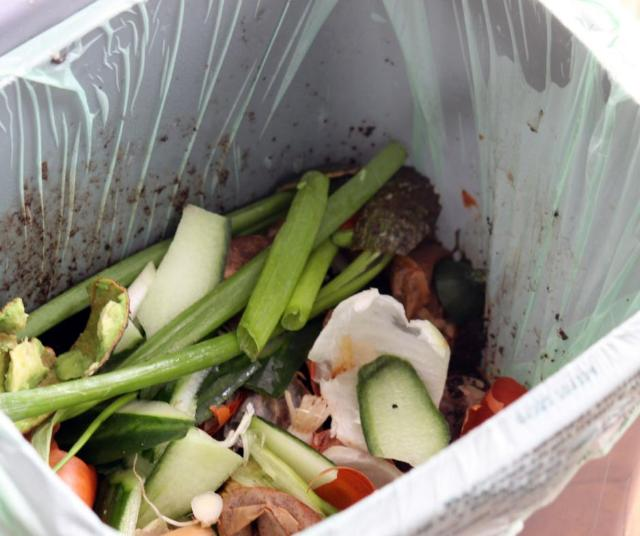Garbage: (0, 129, 534, 536)
